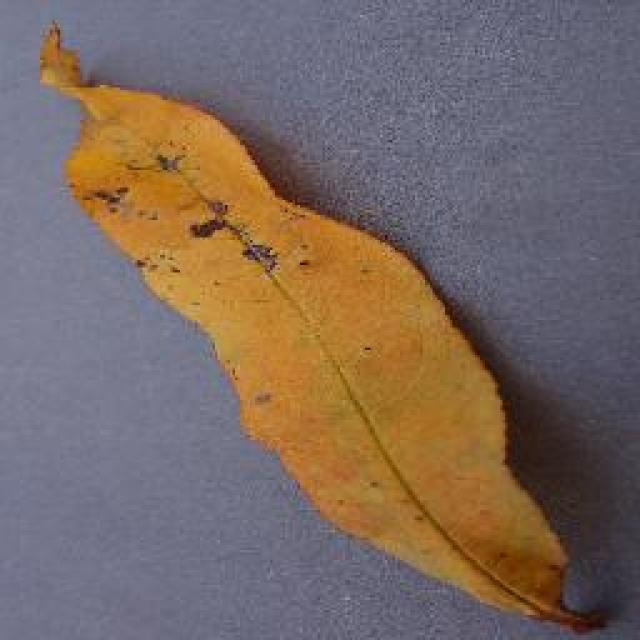Bacterial_spot: (186, 199, 293, 289), (115, 142, 202, 189), (76, 180, 154, 224)
